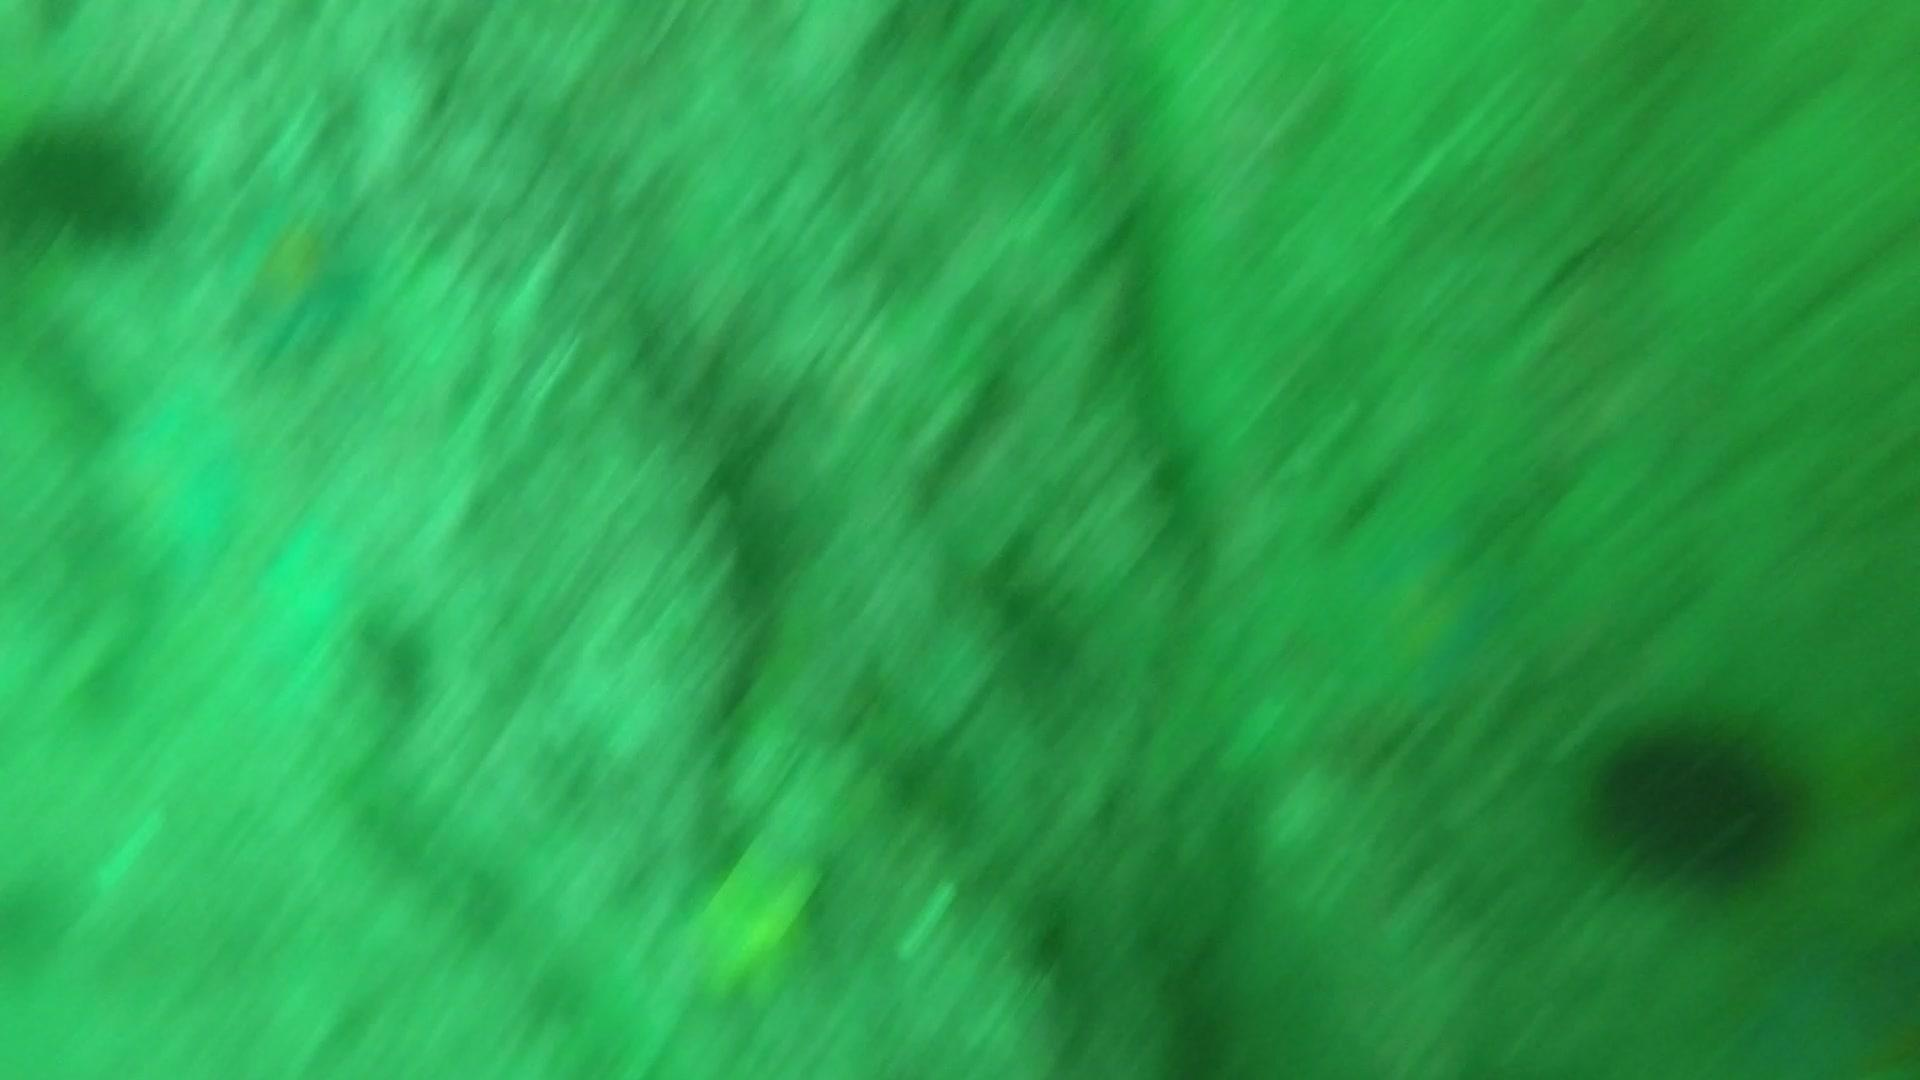echinus: (1578, 705, 1815, 895), (3, 104, 175, 251)
starfish: (1331, 513, 1522, 723), (83, 376, 264, 595), (210, 177, 382, 371), (670, 833, 837, 1017)
